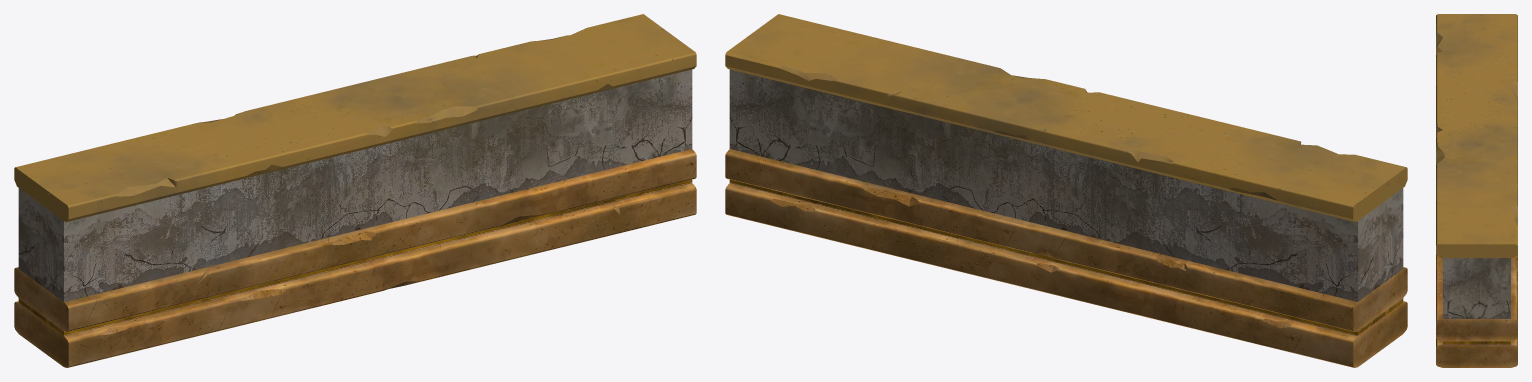
3 views of the same model, side by side, from view 1: azimuth 30°, elevation 25°; view 2: azimuth 150°, elevation 25°; view 3: azimuth 270°, elevation 25° (orthographic). The views are drawn at different scales.
Parts seen in each view (by area): view 1: SM_Vault_4x1_Wall_01_LOD0; view 2: SM_Vault_4x1_Wall_01_LOD0; view 3: SM_Vault_4x1_Wall_01_LOD0.
Boxes of the visible parts, <box> form: SM_Vault_4x1_Wall_01_LOD0: <box>14,14,696,367</box>; SM_Vault_4x1_Wall_01_LOD0: <box>725,14,1407,367</box>; SM_Vault_4x1_Wall_01_LOD0: <box>1436,14,1517,367</box>.
Bounding box in the file's own units: 4 × 1 × 0.5999.
3 materials, 3 textured.
